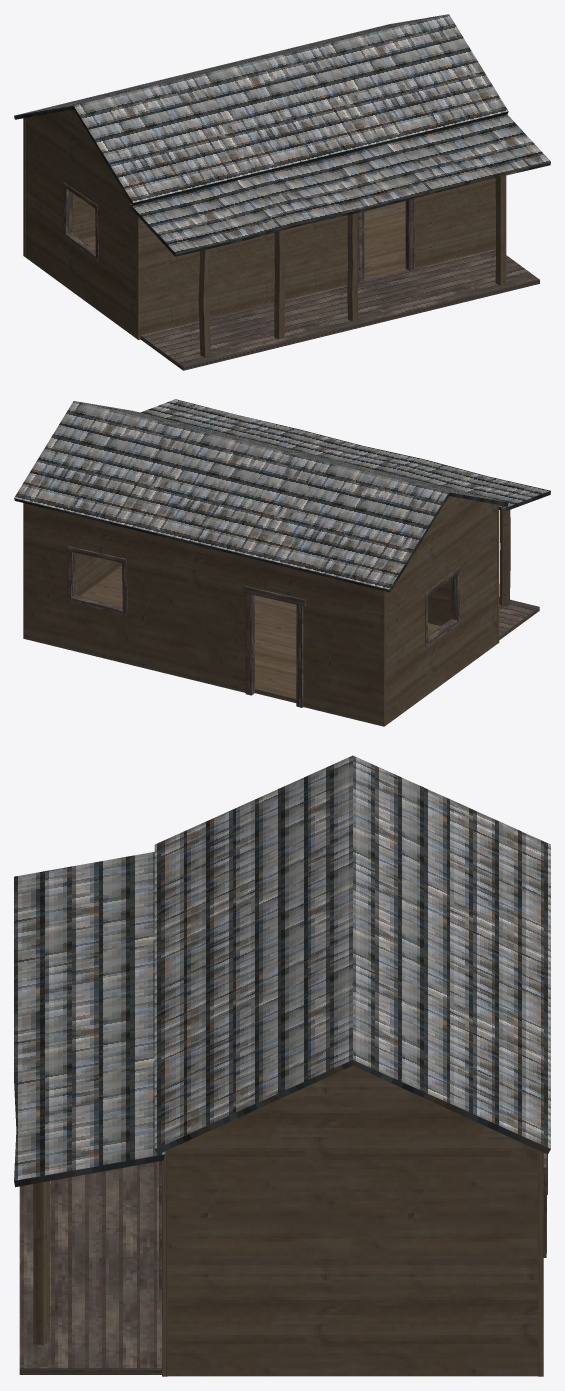
Rendered from Cabin.fbx.
3 views of the same model, one above another, from view 1: azimuth 30°, elevation 25°; view 2: azimuth 150°, elevation 25°; view 3: azimuth 270°, elevation 25° (orthographic). The views are drawn at different scales.
Visible parts, largest first — view 1: Cabin; view 2: Cabin; view 3: Cabin.
Part boxes in pixels (x1=…): Cabin: x1=14, y1=14, x2=550, y2=370; Cabin: x1=14, y1=399, x2=550, y2=726; Cabin: x1=14, y1=755, x2=550, y2=1376.
Size of the model in its own units: 392 by 193 by 292.
